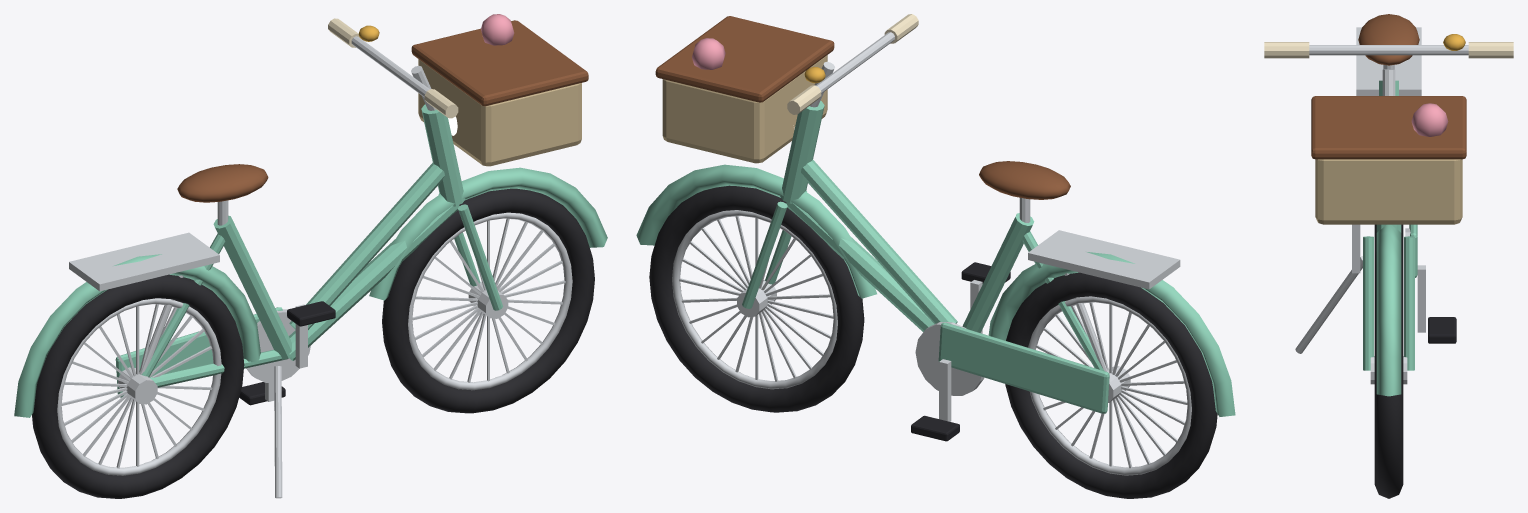
File: bike.glb
3 views of the same model, side by side, from view 1: azimuth 30°, elevation 25°; view 2: azimuth 150°, elevation 25°; view 3: azimuth 270°, elevation 25° (orthographic). The views are drawn at different scales.
Visible parts, largest first — view 1: tyre, tyre.001, basket, basket_rim, fender_back, fender_front, rack, low_tube, rim.001, rim, down_tube, seat_tube (+12 smaller); view 2: tyre.001, tyre, basket, basket_rim, chain_guard, fender_front, fender_back, rack, low_tube, rim.001, rim, down_tube (+11 smaller); view 3: basket, basket_rim, fender_front, tyre.001, rack, saddle, bar, fork_l, fork_r, basket_flower, kickstand, pedal (+6 smaller).
Boxes of the visible parts, box(x1,y1,x2,y2) form: tyre: box(32, 274, 244, 498); tyre.001: box(382, 188, 594, 413); basket: box(418, 59, 581, 166); basket_rim: box(411, 20, 588, 106); fender_back: box(14, 254, 260, 417); fender_front: box(369, 167, 607, 300); rack: box(69, 232, 219, 291); low_tube: box(289, 163, 444, 329); rim.001: box(408, 212, 572, 390); rim: box(57, 298, 221, 475); down_tube: box(289, 205, 459, 360); seat_tube: box(213, 215, 291, 359); tyre.001: box(649, 185, 864, 412); tyre: box(1005, 272, 1217, 498); basket: box(662, 55, 827, 163); basket_rim: box(655, 16, 834, 102); chain_guard: box(938, 322, 1109, 413); fender_front: box(636, 164, 876, 298); fender_back: box(988, 252, 1235, 416); rack: box(1028, 230, 1180, 289); low_tube: box(801, 159, 957, 323); rim.001: box(672, 210, 837, 389); rim: box(1028, 296, 1191, 475); down_tube: box(786, 202, 934, 331); basket: box(1315, 159, 1462, 224); basket_rim: box(1311, 96, 1466, 159); fender_front: box(1376, 224, 1401, 396); tyre.001: box(1374, 251, 1403, 498); rack: box(1356, 27, 1421, 95); saddle: box(1358, 14, 1419, 65); bar: box(1309, 45, 1468, 55); fork_l: box(1404, 236, 1414, 370); fork_r: box(1363, 236, 1373, 370); basket_flower: box(1411, 103, 1448, 136); kickstand: box(1295, 256, 1362, 353); pedal: box(1428, 317, 1456, 343).
Bounding box in the file's own units: 1.78 × 1.09 × 0.61.
